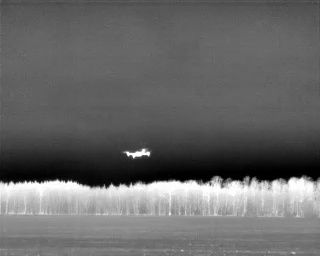DRONE: (119, 143, 155, 163)
